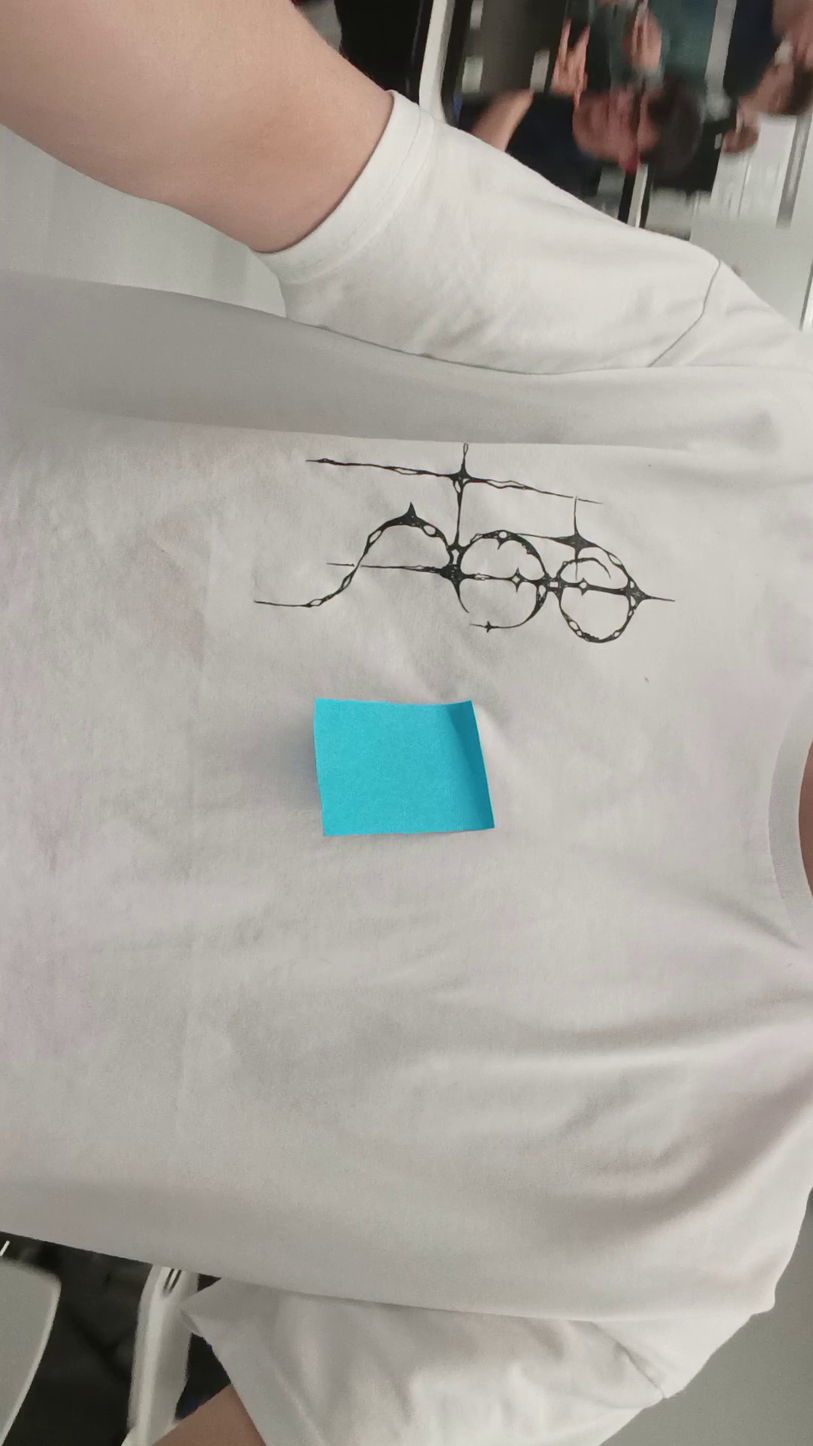marker: (315, 700, 493, 834)
